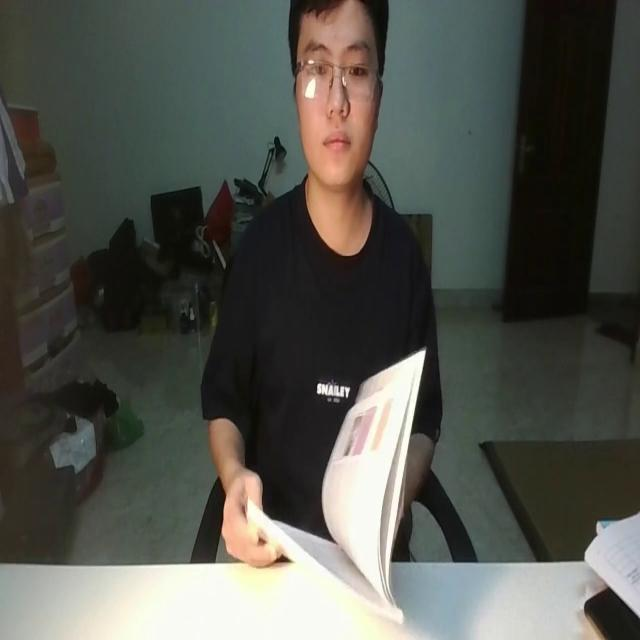book: (242, 345, 432, 632)
student: (196, 0, 446, 567)
